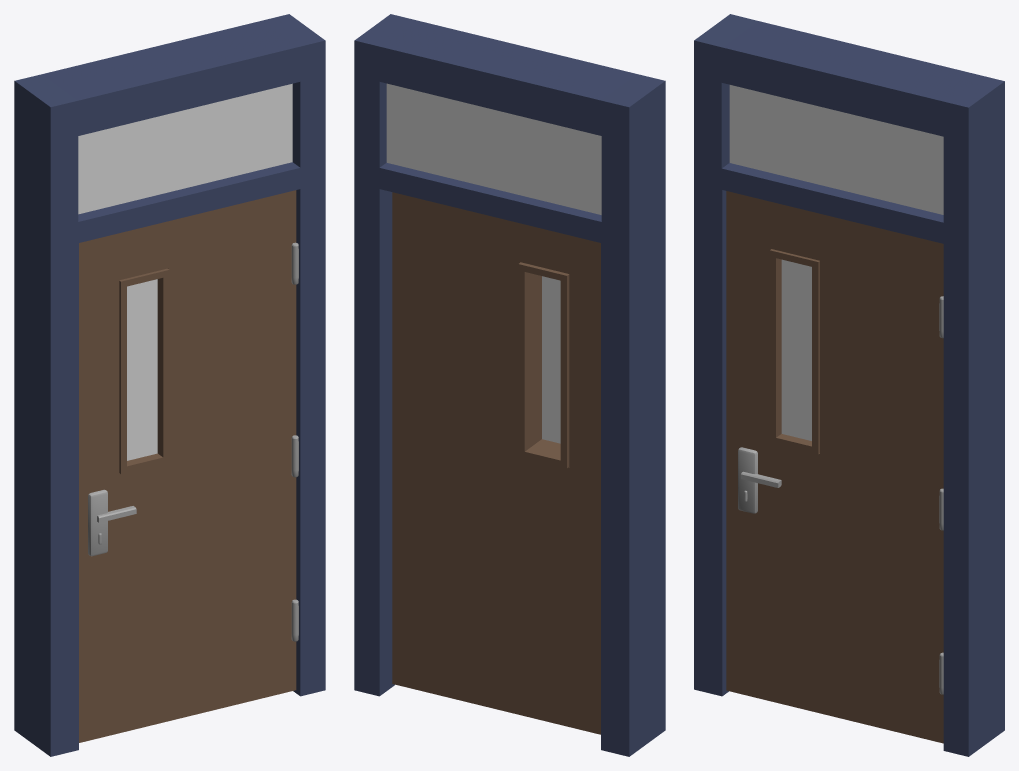
Rendered from Pintu1.fbx.
3 views of the same model, side by side, from view 1: azimuth 30°, elevation 25°; view 2: azimuth 150°, elevation 25°; view 3: azimuth 330°, elevation 25° (orthographic).
Visible parts, largest first — view 1: Pintu 1; view 2: Pintu 1; view 3: Pintu 1.
Boxes of the visible parts, <box> form: Pintu 1: <box>14,14,325,756</box>; Pintu 1: <box>354,14,665,756</box>; Pintu 1: <box>694,14,1004,756</box>.
Bounding box in the file's own units: 99.36 × 225 × 23.16.
